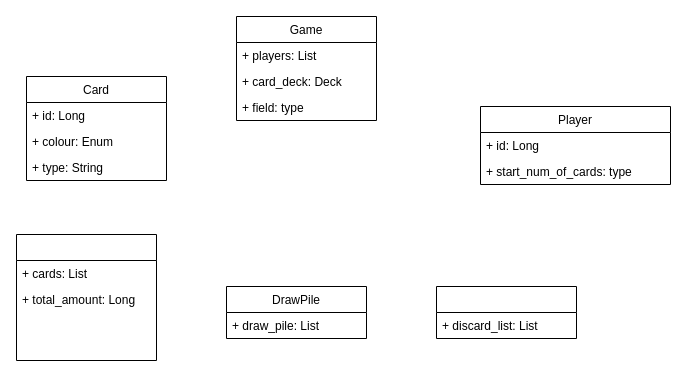
Image size: 687x377. Some labels were removed from this diagram. The shapes that lost their labels are listed below. From the top down, each one's box as (x1, y1, x2, y2) in pixels, then its label:
(16, 234, 156, 360): Deck
(436, 286, 576, 338): DiscardPile
